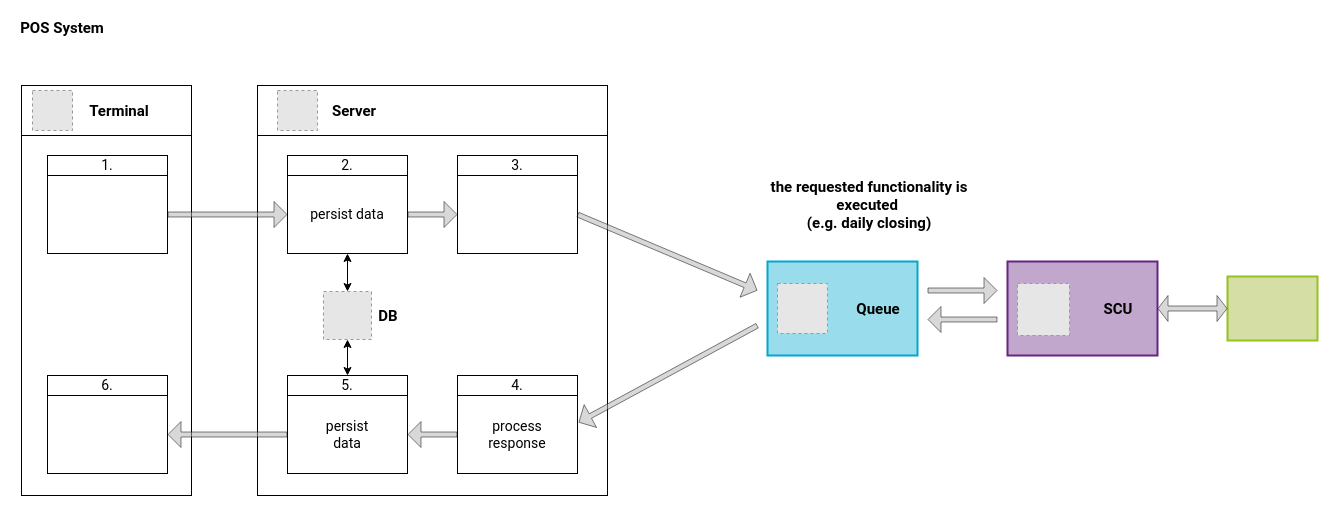
Some shapes in this 1335 by 513 pixel diagram are drawn without their labels. Grey dashed boxes stand in for pictures. The centre of each missing label's shape, as x and y in pixels:
compose and print the receipt: the point at 107,434
send sign request (special receipt): the point at 517,214
SSCD: the point at 1272,308
trigger functionality: the point at 107,214
